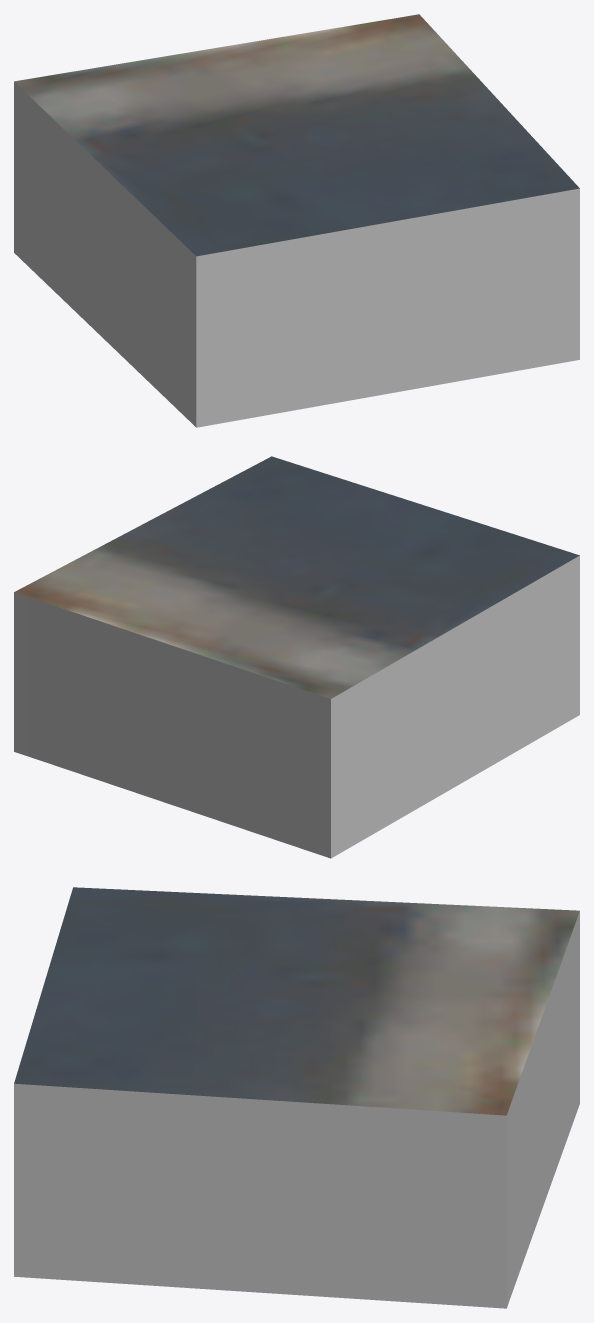
The model's file is DEBW_0010007TxbB.gltf.
3 views of the same model, one above another, from view 1: azimuth 30°, elevation 25°; view 2: azimuth 150°, elevation 25°; view 3: azimuth 270°, elevation 25° (orthographic). The views are drawn at different scales.
Parts seen in each view (by area): view 1: Z_UP; view 2: Z_UP; view 3: Z_UP.
Boxes of the visible parts, x1,y1,x2,y2 form: Z_UP: (14, 14, 579, 427); Z_UP: (14, 456, 579, 858); Z_UP: (14, 887, 579, 1308).
Bounding box in the file's own units: 6.94 × 2.74 × 7.27.
2 materials, 1 textured.
